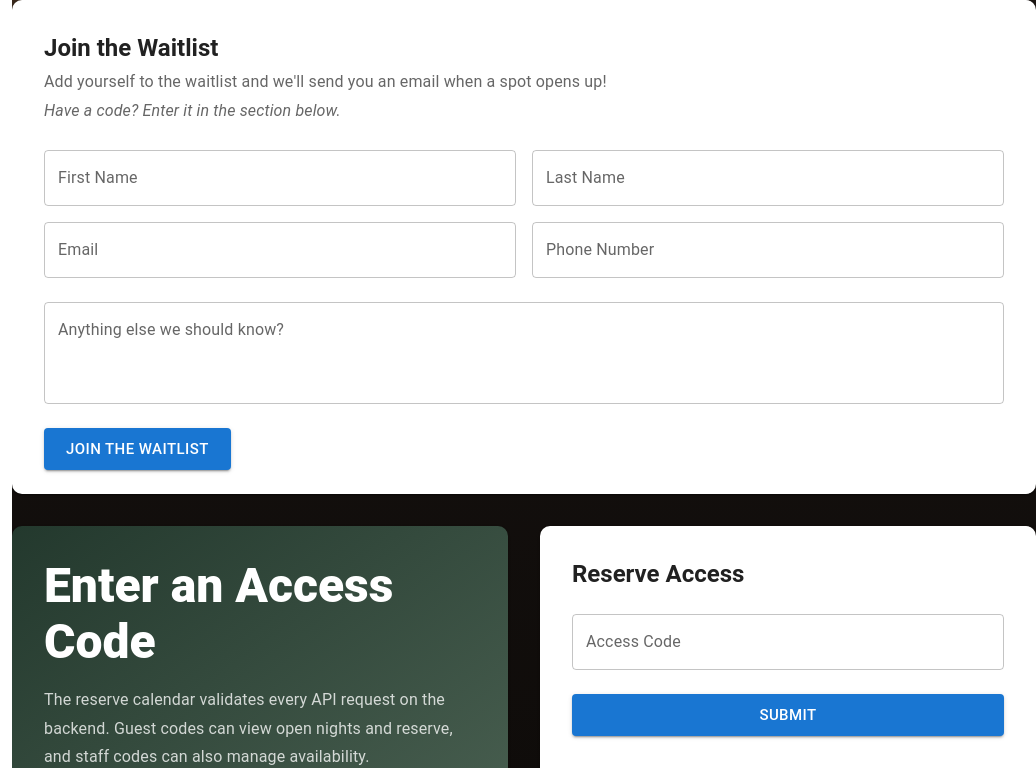
Test case: Scheduling Component › signs in and loads protected data with a bearer token
This screenshot has width=1036, height=768.
Type "bistro1201" into the password field with placeholder "Access Code" at (788, 642), box [572,614,1004,670]
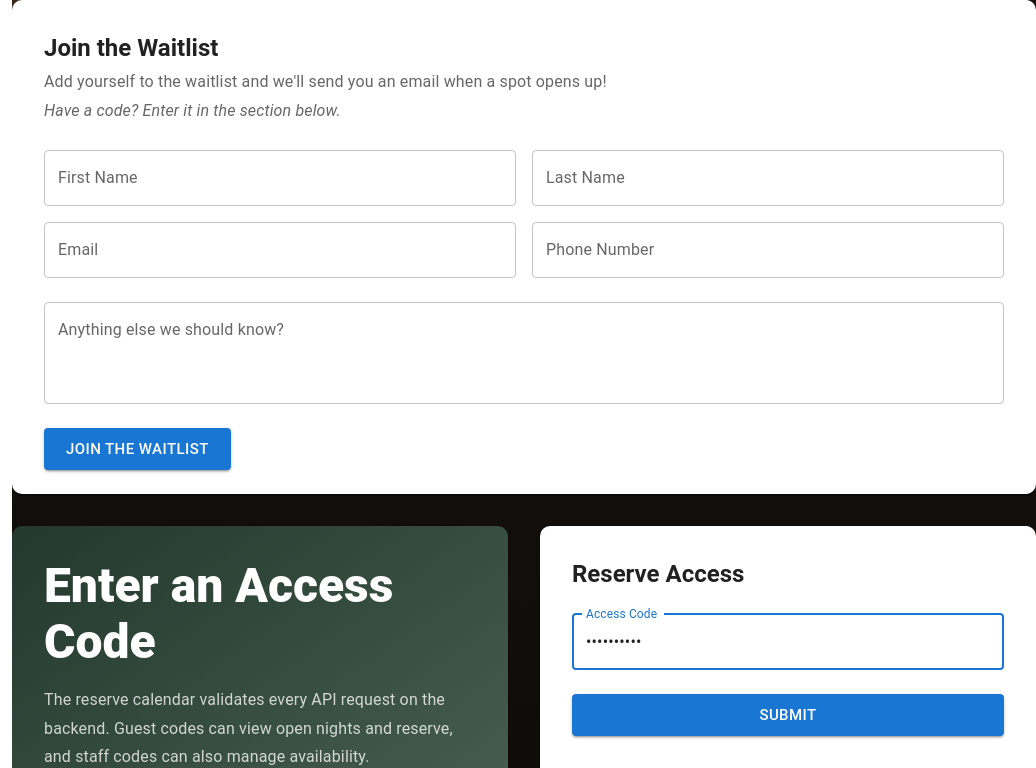
Click the button "Submit" at (788, 715), box [572,694,1004,736]
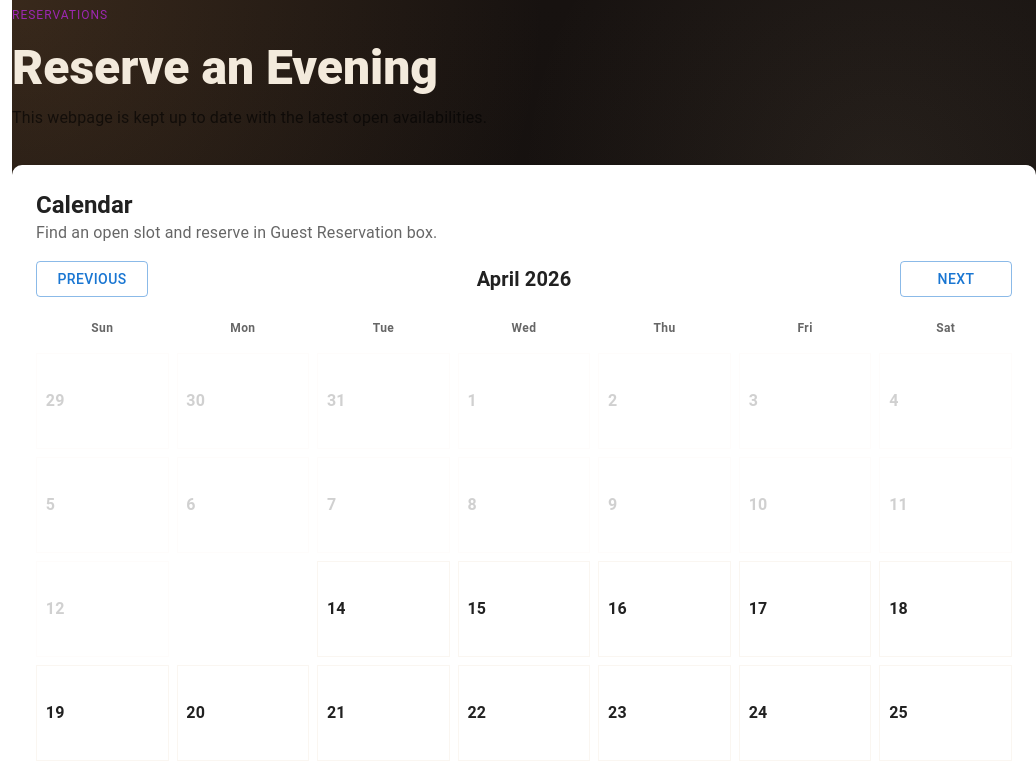
Result: the heading "Reserve an Evening" is shown at [12,39,438,96]
